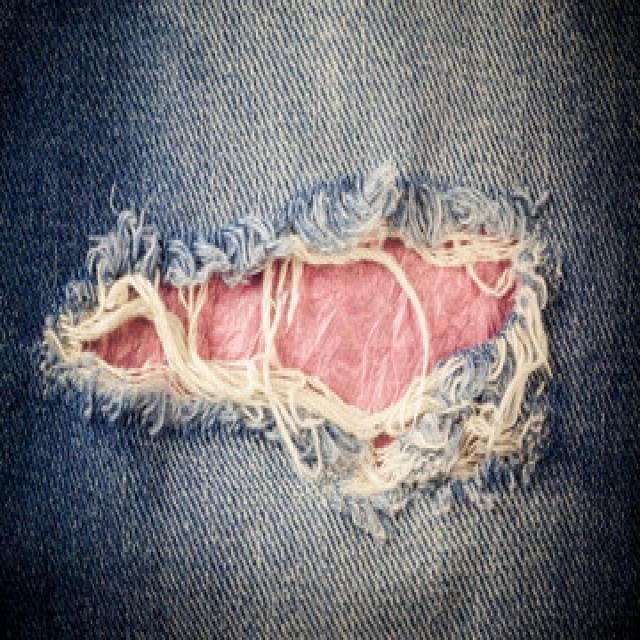Hole: (44, 163, 551, 540)
